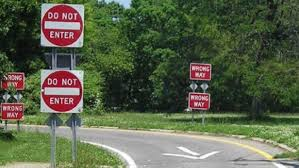doNotEnter: (40, 1, 84, 49), (40, 68, 84, 113)
